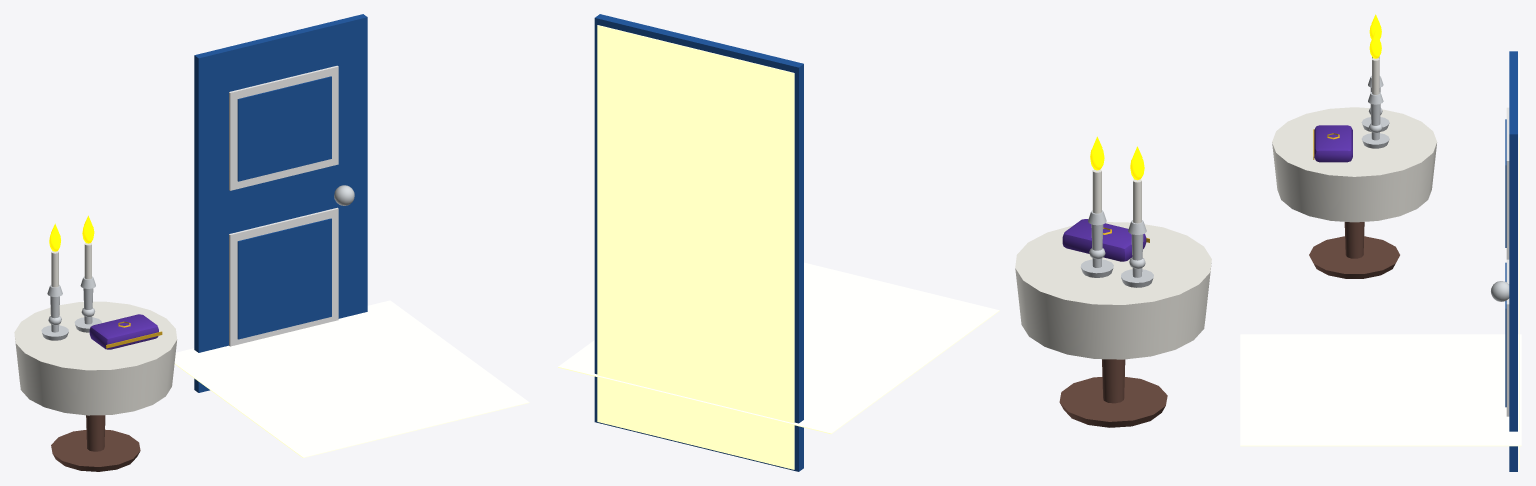
File: shabbos_porch.glb
3 renders of one model, left to right at view 1: azimuth 30°, elevation 25°; view 2: azimuth 150°, elevation 25°; view 3: azimuth 270°, elevation 25°, orthographic. The views are drawn at different scales.
Visible parts, largest first — view 1: Door, DoorGlow, ShabbosTable; view 2: DoorGlow, ShabbosTable, Door; view 3: DoorGlow, ShabbosTable, Door.
Part boxes in pixels (box(x1,y1,x2,y2)): Door: box(194, 14, 367, 392); DoorGlow: box(174, 300, 529, 457); ShabbosTable: box(14, 243, 177, 471); DoorGlow: box(558, 25, 999, 469); ShabbosTable: box(1015, 169, 1211, 427); Door: box(594, 14, 803, 471); DoorGlow: box(1240, 57, 1521, 468); ShabbosTable: box(1272, 56, 1437, 278); Door: box(1491, 51, 1517, 471).
Bounding box in the file's own units: 2.97 × 2.12 × 1.6.
